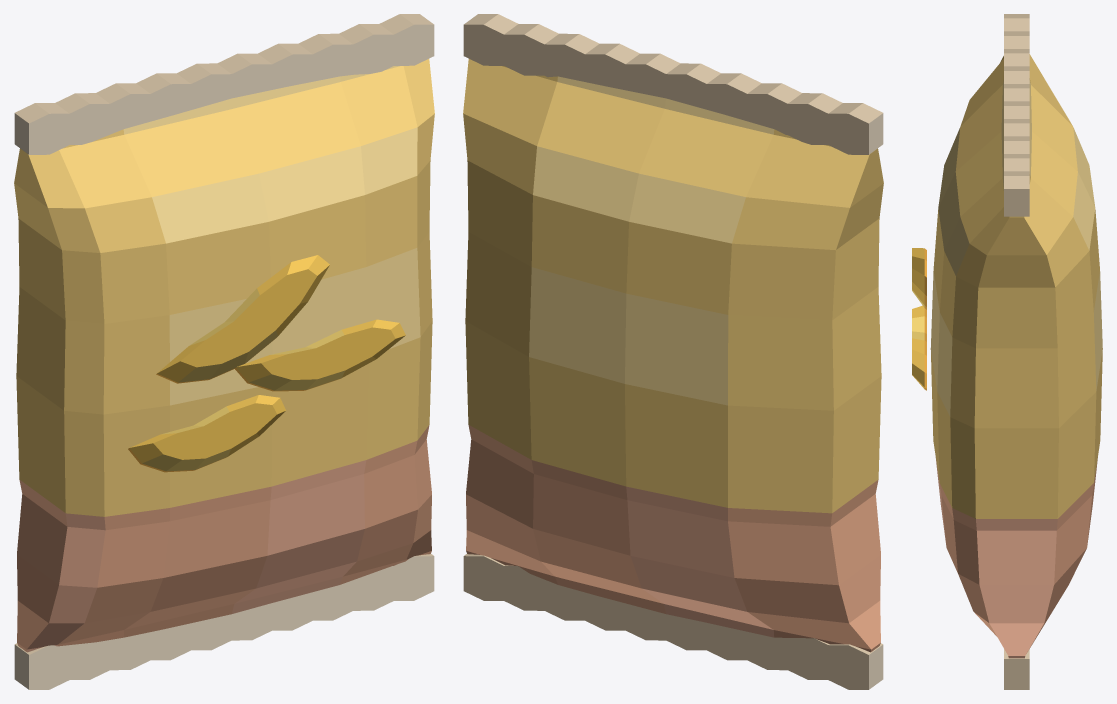
File: potato-chips.glb
The picture shows the model from 3 angles, left to right: view 1: azimuth 30°, elevation 25°; view 2: azimuth 150°, elevation 25°; view 3: azimuth 270°, elevation 25°; orthographic projection. The views are drawn at different scales.
Visible parts, largest first — view 1: 01 包装袋 | 鼓起的金黄与蜜桃色折面, 03 顶部奶油色锯齿封边, 02 底部奶油色锯齿封边, 04 薯片图案 | 上, 05 薯片图案 | 右, 06 薯片图案 | 下; view 2: 01 包装袋 | 鼓起的金黄与蜜桃色折面, 03 顶部奶油色锯齿封边, 02 底部奶油色锯齿封边; view 3: 01 包装袋 | 鼓起的金黄与蜜桃色折面, 03 顶部奶油色锯齿封边, 05 薯片图案 | 右, 02 底部奶油色锯齿封边, 04 薯片图案 | 上.
Boxes of the visible parts, <box> form: 01 包装袋 | 鼓起的金黄与蜜桃色折面: <box>14,59,434,652</box>; 03 顶部奶油色锯齿封边: <box>14,14,434,154</box>; 02 底部奶油色锯齿封边: <box>14,554,434,689</box>; 04 薯片图案 | 上: <box>156,255,329,383</box>; 05 薯片图案 | 右: <box>235,319,405,391</box>; 06 薯片图案 | 下: <box>128,395,285,472</box>; 01 包装袋 | 鼓起的金黄与蜜桃色折面: <box>463,59,883,652</box>; 03 顶部奶油色锯齿封边: <box>463,14,883,154</box>; 02 底部奶油色锯齿封边: <box>463,554,883,689</box>; 01 包装袋 | 鼓起的金黄与蜜桃色折面: <box>930,54,1102,658</box>; 03 顶部奶油色锯齿封边: <box>1004,14,1029,216</box>; 05 薯片图案 | 右: <box>912,305,926,390</box>; 02 底部奶油色锯齿封边: <box>1004,649,1029,689</box>; 04 薯片图案 | 上: <box>912,248,926,309</box>.
Size of the model in its own units: 1.76 by 2.39 by 0.8107.
